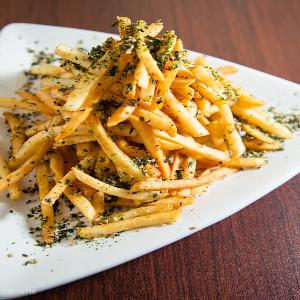fries_350cal: (1, 15, 286, 233)
